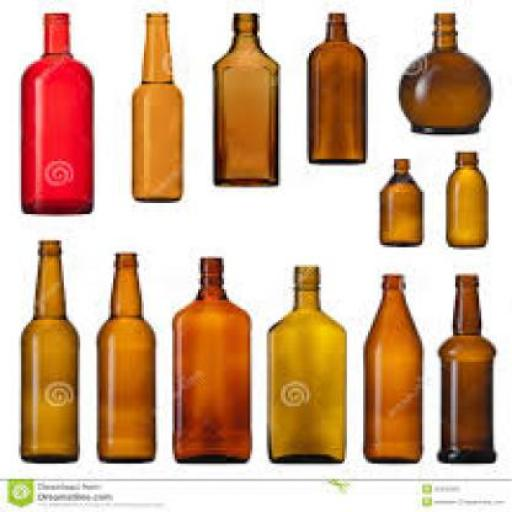glass: (170, 256, 250, 462), (266, 264, 346, 462), (18, 11, 92, 212), (94, 252, 153, 458), (22, 238, 76, 460), (208, 11, 276, 183), (396, 13, 491, 132), (436, 274, 496, 461), (363, 274, 420, 461), (304, 9, 364, 161), (132, 11, 179, 201), (377, 156, 423, 245), (443, 150, 486, 245)
